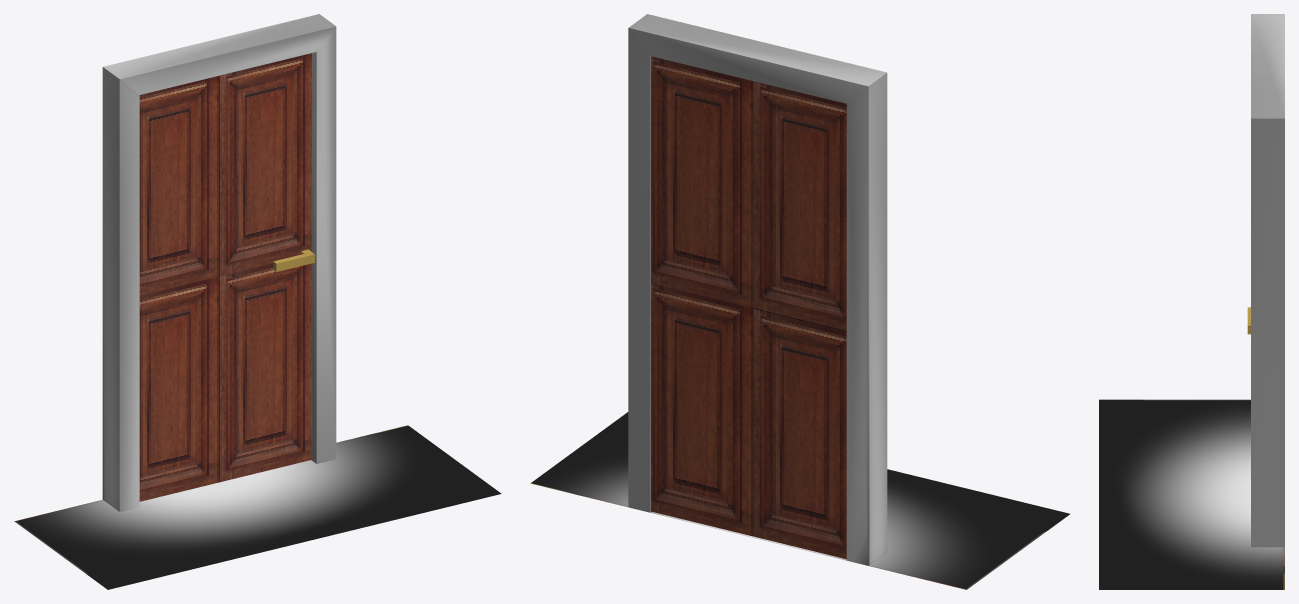
File: door.glb
3 renders of one model, left to right at view 1: azimuth 30°, elevation 25°; view 2: azimuth 150°, elevation 25°; view 3: azimuth 270°, elevation 25°, orthographic. The views are drawn at different scales.
Parts seen in each view (by area): view 1: Door, Frame; view 2: Door, Frame; view 3: Frame.
Boxes of the visible parts, left/top/right/bottom form: Door: left=139, top=53, right=314, bottom=501; Frame: left=14, top=14, right=501, bottom=589; Door: left=651, top=56, right=846, bottom=559; Frame: left=530, top=14, right=1069, bottom=589; Frame: left=1099, top=14, right=1284, bottom=589.
Size of the model in its own units: 2 by 2.1 by 0.825.
2 materials, 2 textured.
